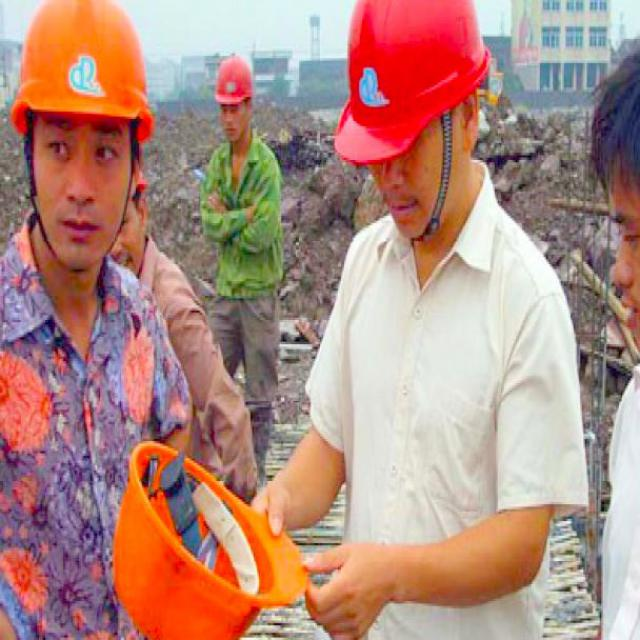helmet: (93, 407, 294, 638), (6, 0, 154, 274), (209, 31, 255, 150)
